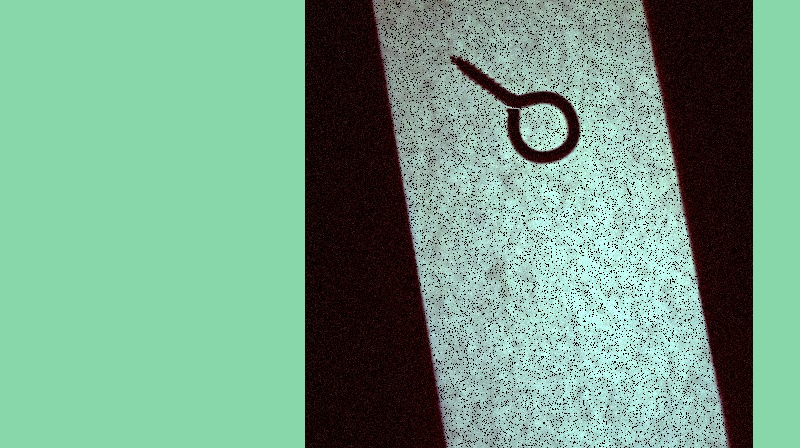O001: (442, 54, 581, 166)
